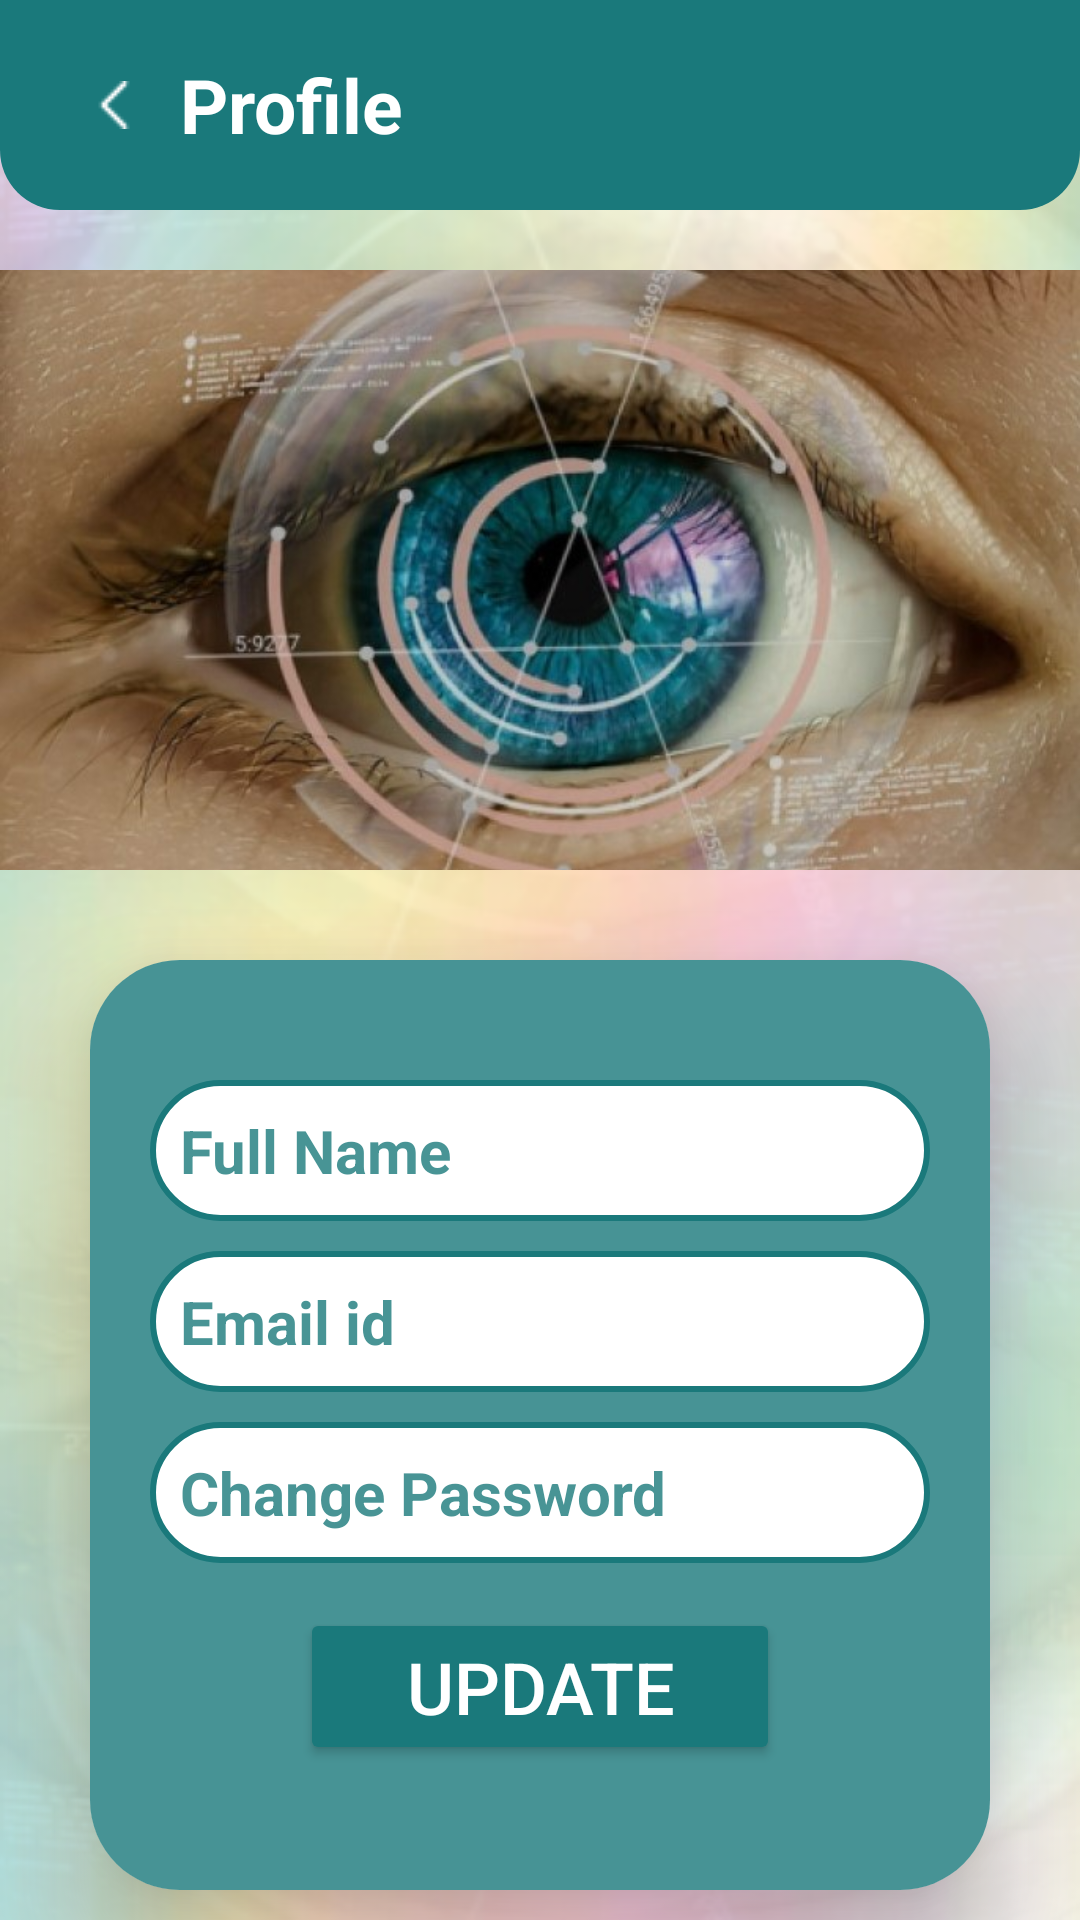

Locate icon controls on the screen. Image size 1080x1920, boxes as box(x1, y1, x2, y2).
whitebackicon: box(99, 81, 129, 129)
